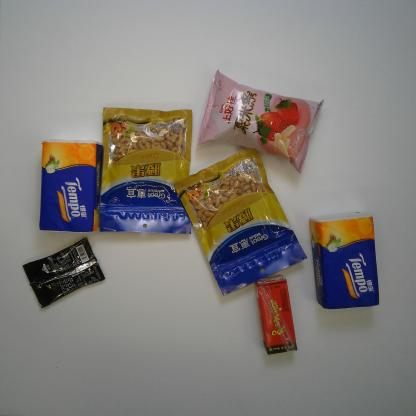Dried Fruit: (173, 148, 308, 297), (98, 106, 193, 235)
Drink: (254, 274, 298, 356)
Instant Drink: (22, 237, 106, 309)
Puffed Food: (196, 69, 325, 174)
Tissue: (309, 210, 380, 310), (38, 139, 104, 234)
